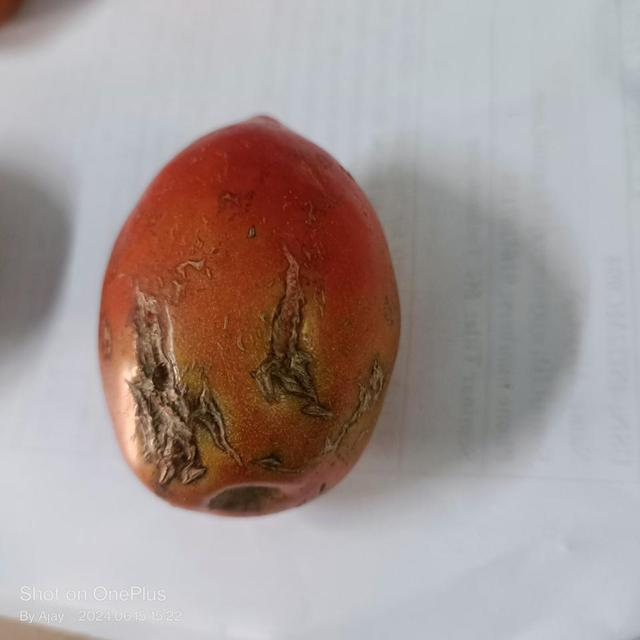Cracking Fruit: (91, 231, 224, 329)
